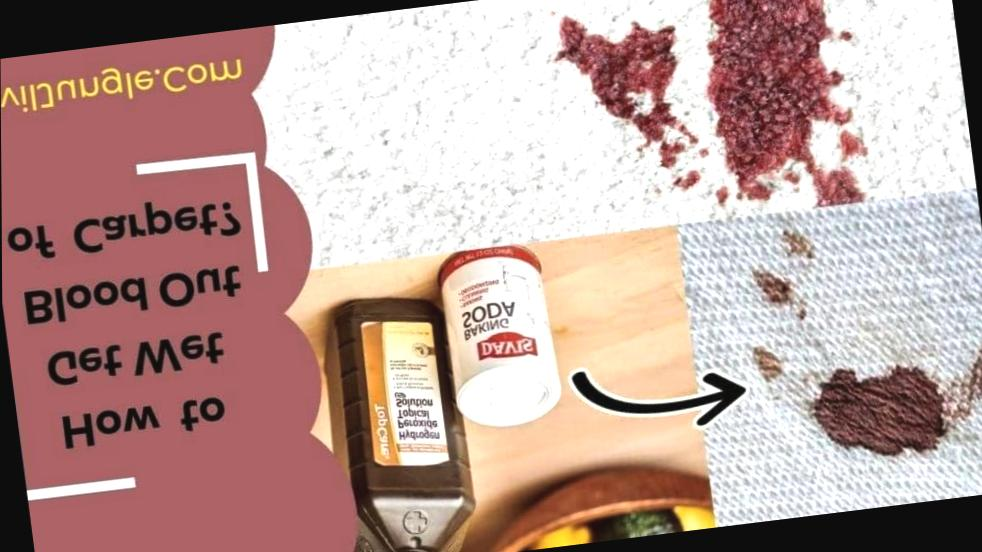Fire: (705, 0, 865, 209), (552, 17, 677, 147), (811, 364, 955, 457), (749, 267, 792, 303), (752, 347, 783, 385)
